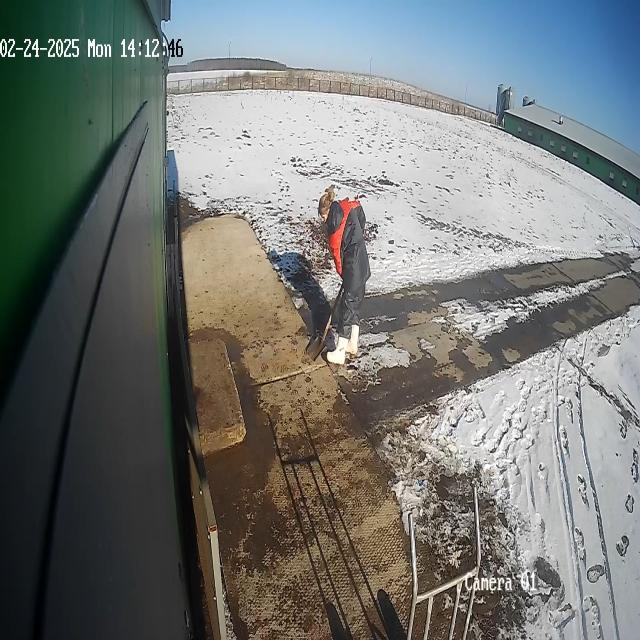Red uniform: (312, 186, 372, 364)
